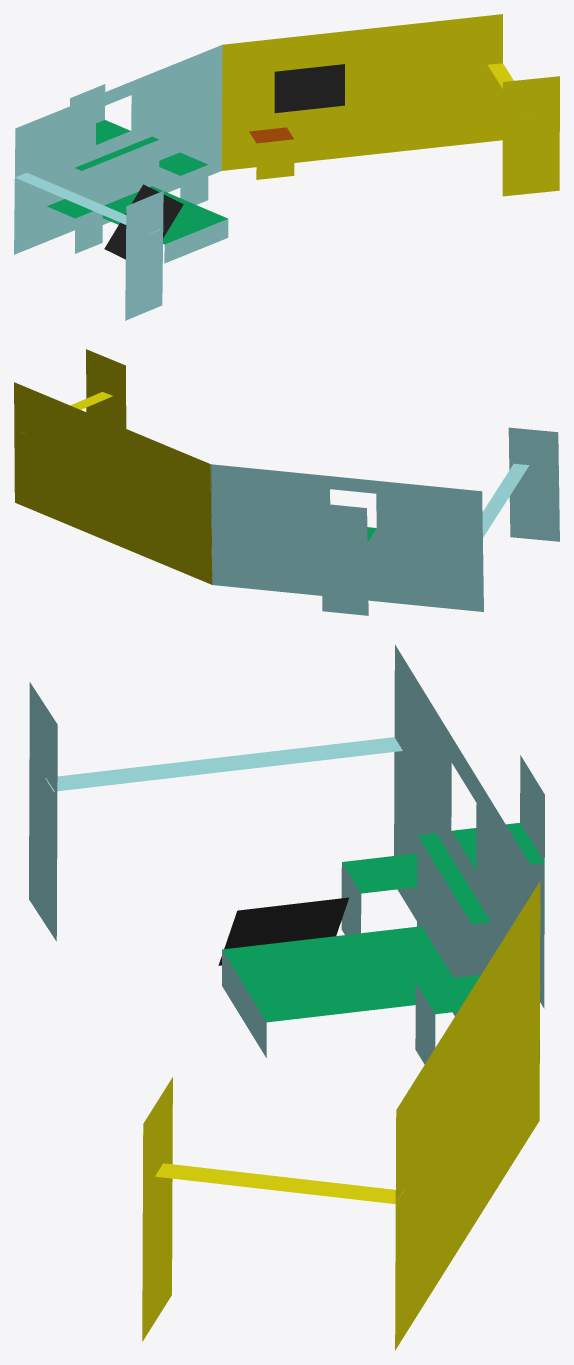
Rendered from room1_safeelements_bropening_pfallen.fbx.
The picture shows the model from 3 angles, top to bottom: view 1: azimuth 30°, elevation 25°; view 2: azimuth 150°, elevation 25°; view 3: azimuth 270°, elevation 25°; orthographic projection. The views are drawn at different scales.
Parts seen in each view (by area): view 1: REF_popup_noanim:polySurface6, REF_popup_noanim:F_wall, REF_popup_noanim:F_door, REF_popup_noanim:bathroomdoor, REF_popup_noanim:F_window, REF_popup_noanim:F_headpiece, REF_popup_noanim:polySurface5, REF_popup_noanim:T_bed, REF_popup_noanim:F_phonetable, REF_popup_noanim:F_bed, REF_popup_noanim:F_painting, REF_popup_noanim:T_window (+8 smaller); view 2: REF_popup_noanim:F_wall, REF_popup_noanim:polySurface6, REF_popup_noanim:F_window, REF_popup_noanim:F_safe, REF_popup_noanim:bathroomdoor, REF_popup_noanim:F_door, REF_popup_noanim:T_window; view 3: REF_popup_noanim:polySurface6, REF_popup_noanim:F_wall, REF_popup_noanim:T_bed, REF_popup_noanim:F_door, REF_popup_noanim:F_window, REF_popup_noanim:T_window, REF_popup_noanim:bathroomdoor, REF_popup_noanim:F_headpiece, REF_popup_noanim:F_painting, REF_popup_noanim:T_door, REF_popup_noanim:F_safe, REF_popup_noanim:T_nightstand_L (+6 smaller).
Boxes of the visible parts, x1,y1,x2,y2 form: REF_popup_noanim:polySurface6: (221,14,502,170); REF_popup_noanim:F_wall: (14,45,222,254); REF_popup_noanim:F_door: (502,76,559,196); REF_popup_noanim:bathroomdoor: (378,49,426,153); REF_popup_noanim:F_window: (125,191,163,320); REF_popup_noanim:F_headpiece: (81,140,159,224); REF_popup_noanim:polySurface5: (274,64,344,113); REF_popup_noanim:T_bed: (102,186,227,244); REF_popup_noanim:F_phonetable: (256,139,294,179); REF_popup_noanim:F_bed: (164,219,228,263); REF_popup_noanim:F_painting: (104,184,183,259); REF_popup_noanim:T_window: (15,172,159,234); REF_popup_noanim:F_wall: (210,464,483,611); REF_popup_noanim:polySurface6: (14,382,212,584); REF_popup_noanim:F_window: (508,427,559,541); REF_popup_noanim:F_safe: (321,503,368,615); REF_popup_noanim:bathroomdoor: (67,430,102,538); REF_popup_noanim:F_door: (86,349,126,428); REF_popup_noanim:T_window: (482,463,529,537); REF_popup_noanim:polySurface6: (395,880,540,1350); REF_popup_noanim:F_wall: (394,644,540,1059); REF_popup_noanim:T_bed: (222,926,453,1022); REF_popup_noanim:F_door: (142,1077,172,1341); REF_popup_noanim:F_window: (29,682,57,941); REF_popup_noanim:T_window: (45,737,402,791); REF_popup_noanim:bathroomdoor: (434,1059,459,1287); REF_popup_noanim:F_headpiece: (417,836,471,1015); REF_popup_noanim:F_painting: (218,897,349,965); REF_popup_noanim:T_door: (155,1163,403,1204); REF_popup_noanim:F_safe: (520,755,544,1008); REF_popup_noanim:T_nightstand_L: (342,853,417,893).
Size of the model in its own units: 96.32 by 45.86 by 24.57.
